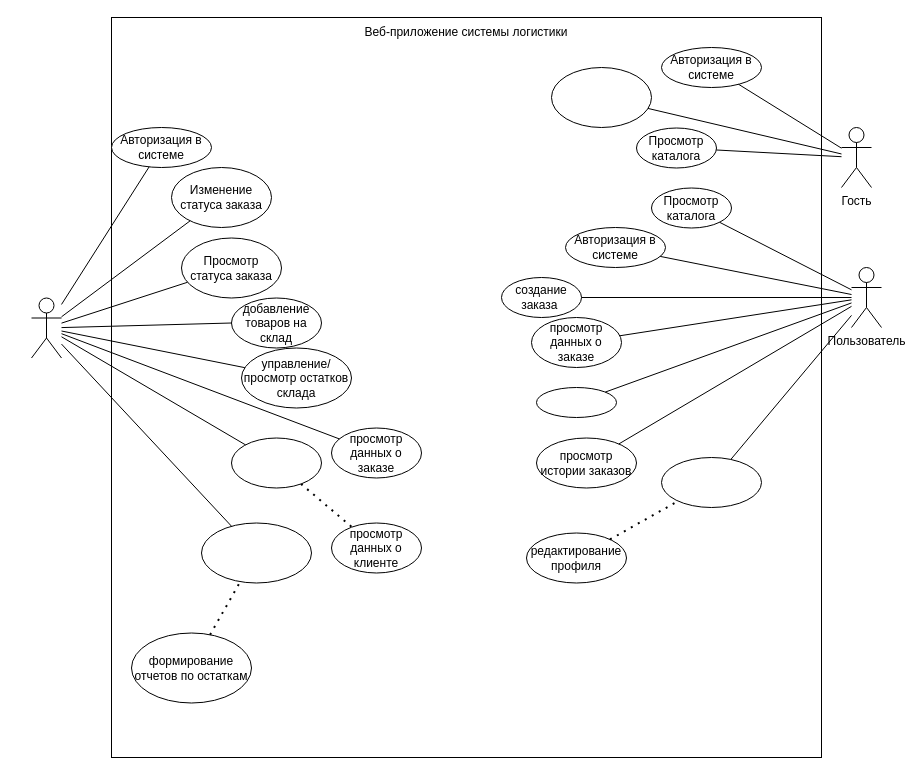
This 923x775 diagram has some shape labels left out. Each missing label, with the box of its shape:
Менеджер: (30, 297, 62, 358)
Оплата: (536, 386, 616, 418)
просмотр данных профиля: (660, 456, 762, 508)
просмотр остатков товара на складе: (200, 522, 312, 583)
создание учетной записи: (550, 66, 652, 128)
управление учетными записями: (230, 437, 322, 488)
